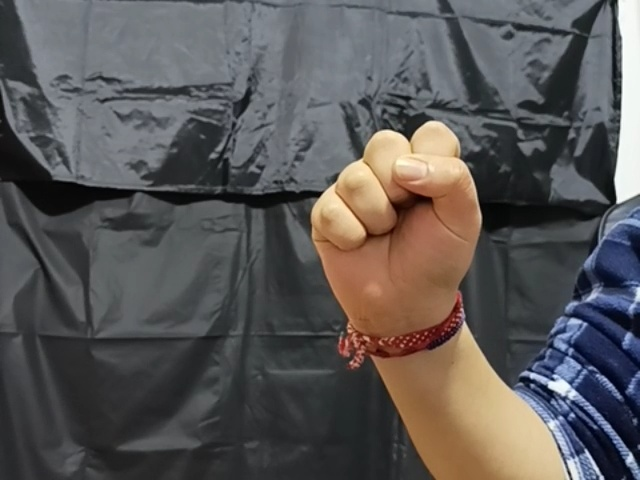S: (311, 125, 486, 325)
